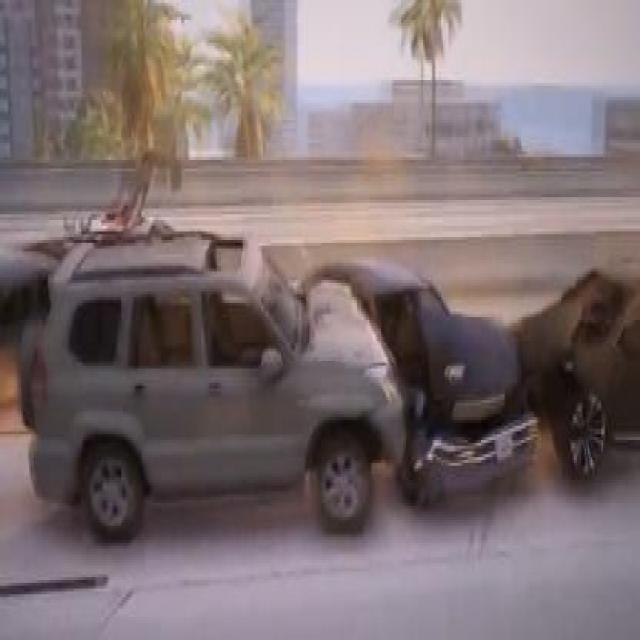accident: (17, 203, 638, 568)
